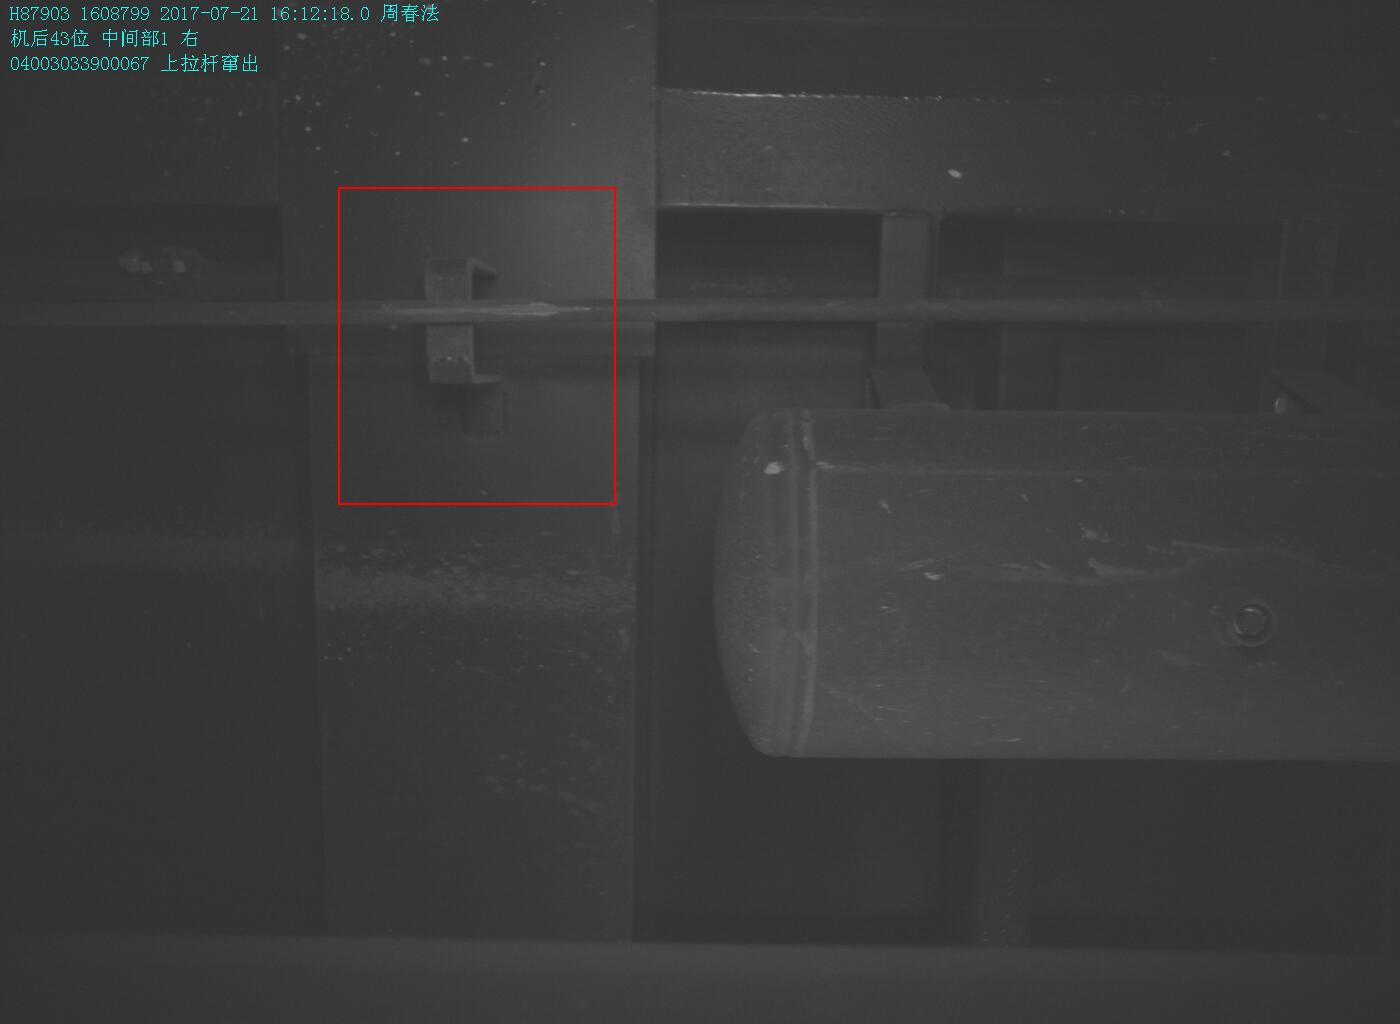Upper lever: (422, 255, 504, 386)
